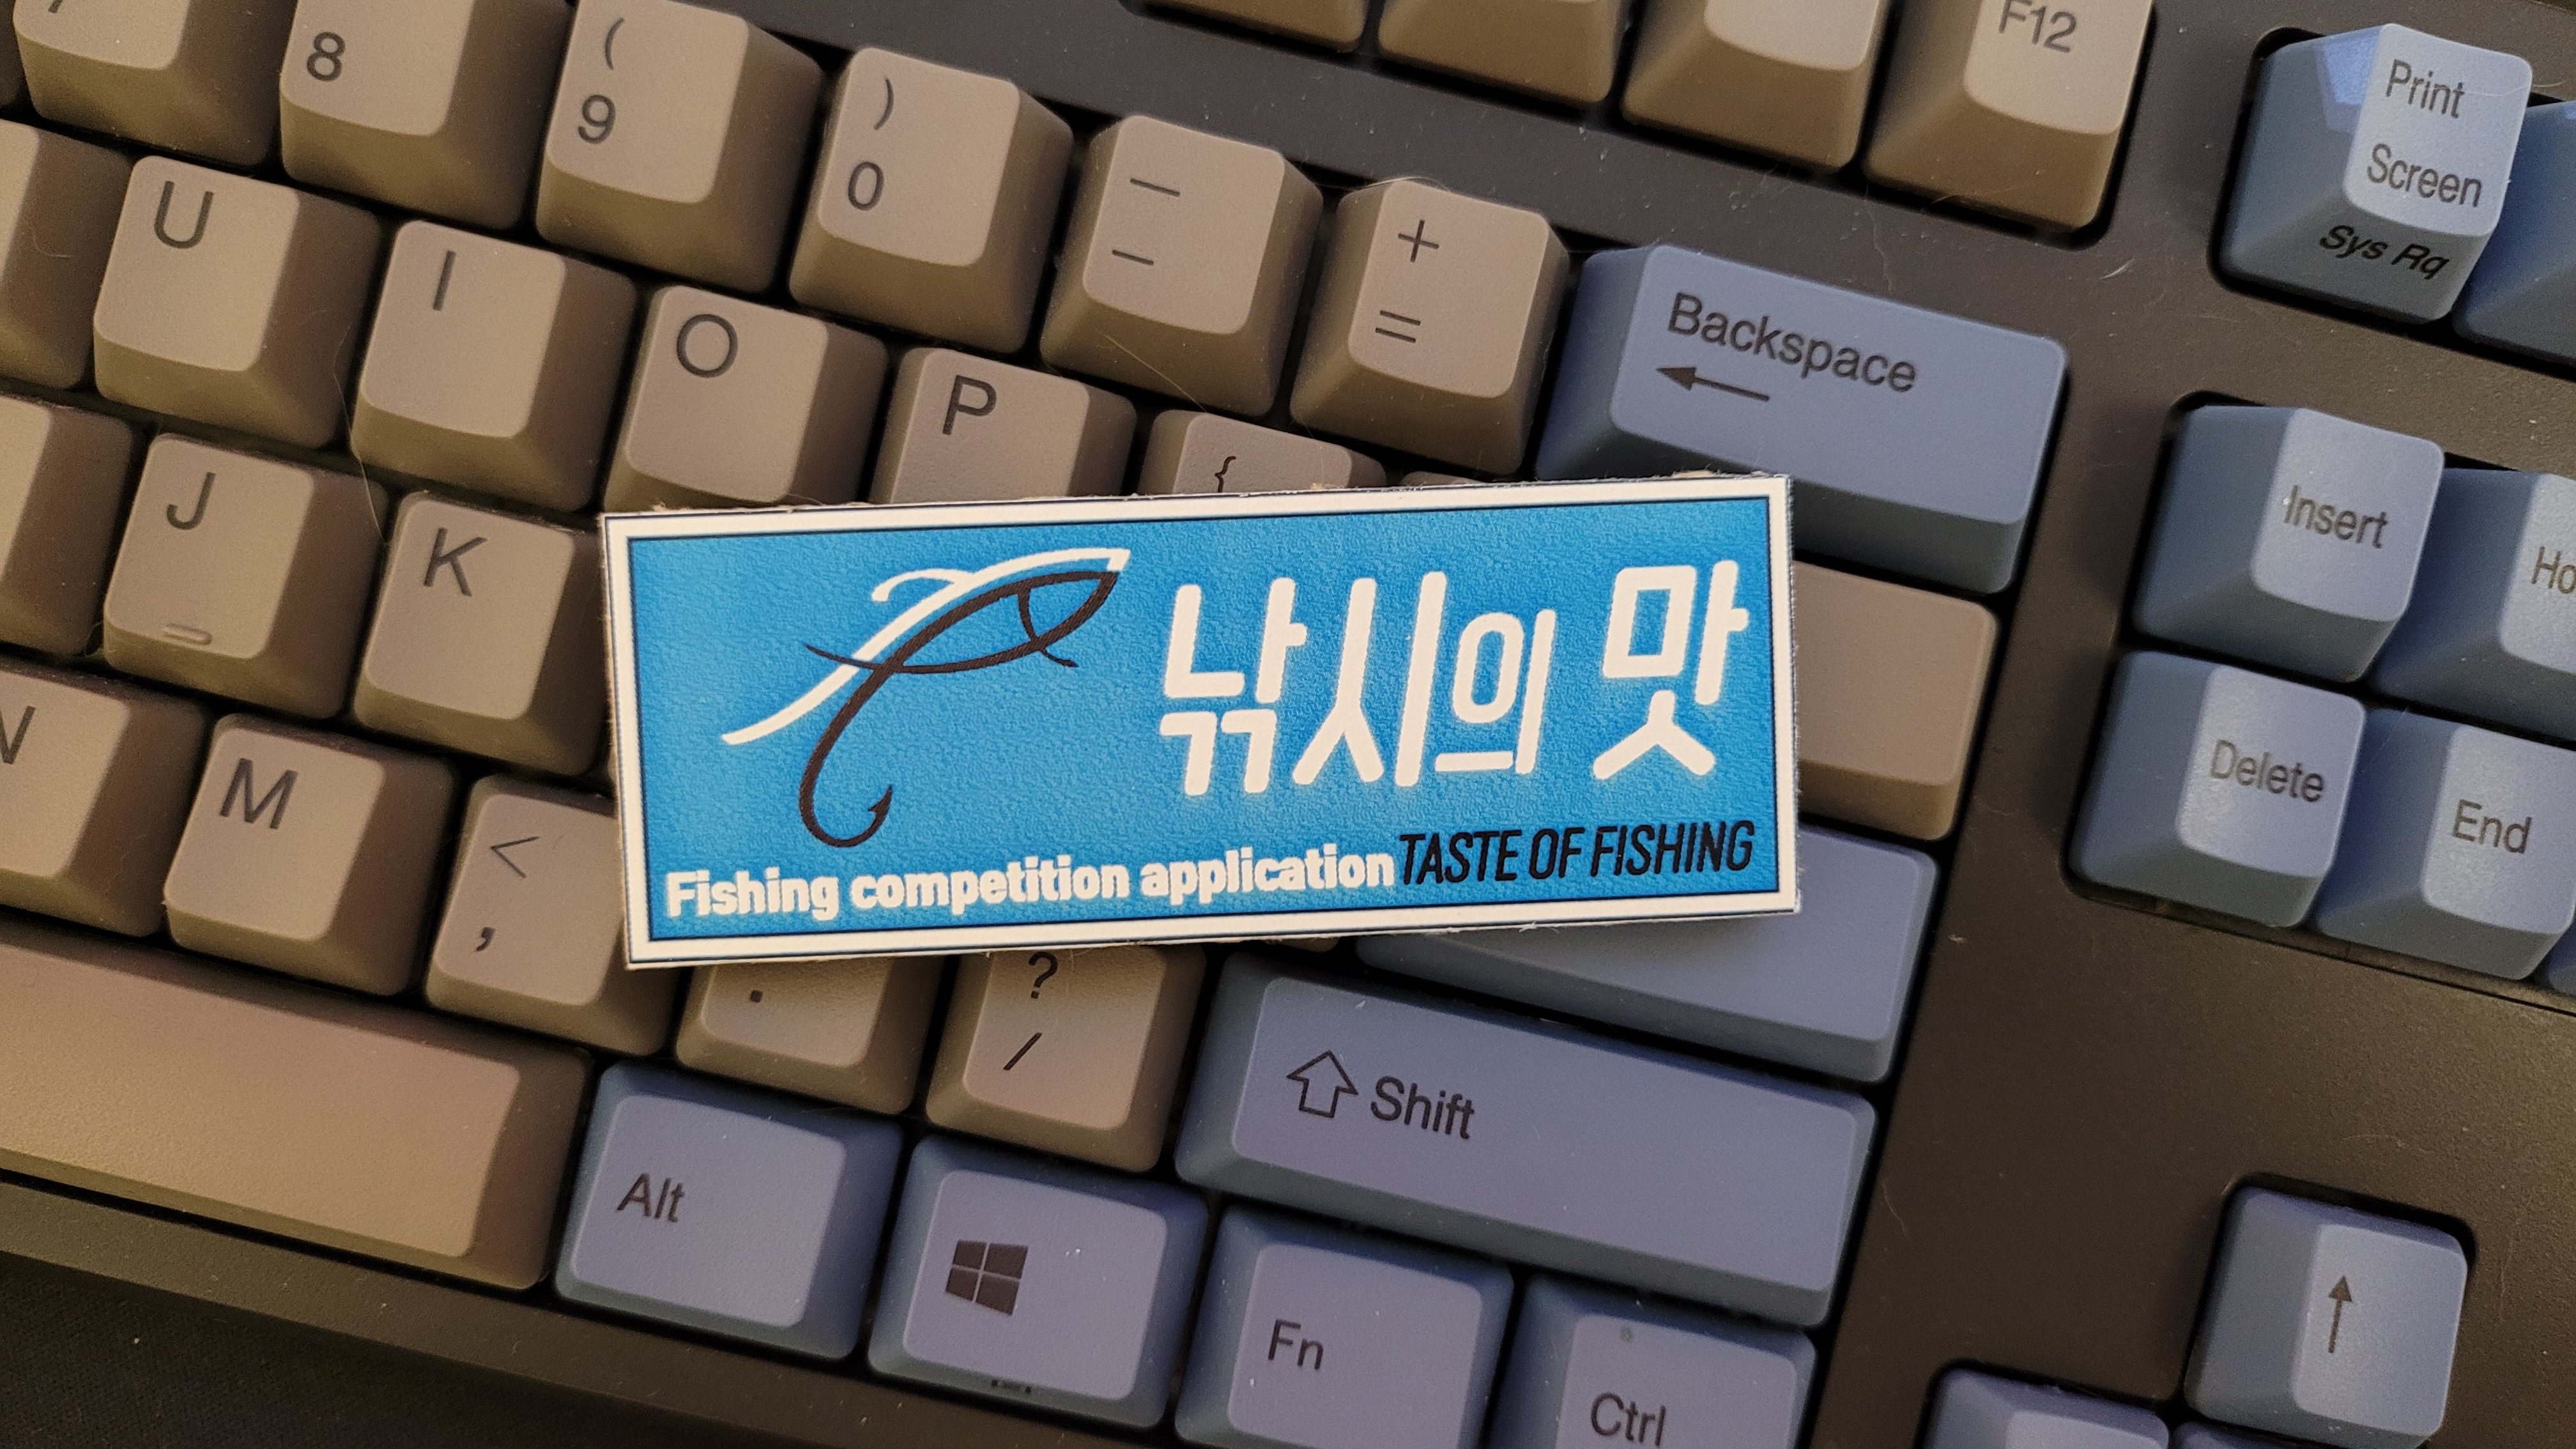tag: (591, 478, 1824, 970)
